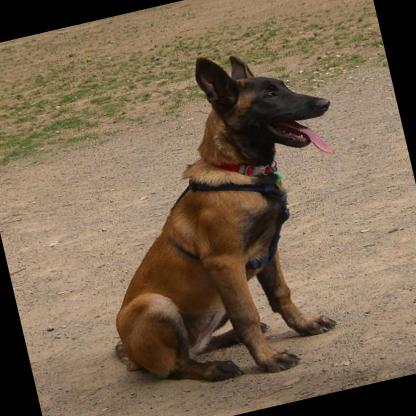malinois: (54, 31, 388, 408)
